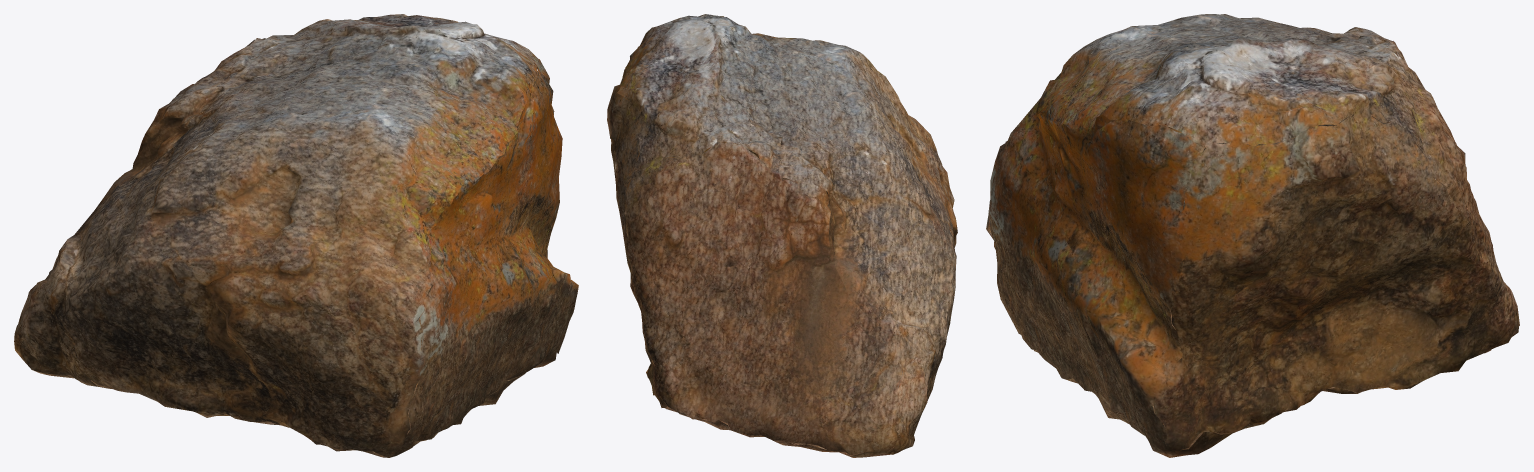
File: boulder.glb
3 renders of one model, left to right at view 1: azimuth 30°, elevation 25°; view 2: azimuth 150°, elevation 25°; view 3: azimuth 270°, elevation 25°, orthographic. The views are drawn at different scales.
Visible parts, largest first — view 1: Boulder; view 2: Boulder; view 3: Boulder.
Boxes of the visible parts, x1=… form: Boulder: x1=14, y1=14, x2=578, y2=457; Boulder: x1=607, y1=14, x2=957, y2=457; Boulder: x1=986, y1=14, x2=1519, y2=457.
Bounding box in the file's own units: 2.52 × 1.9 × 2.49.
Materials: 1 (1 with a texture image).
